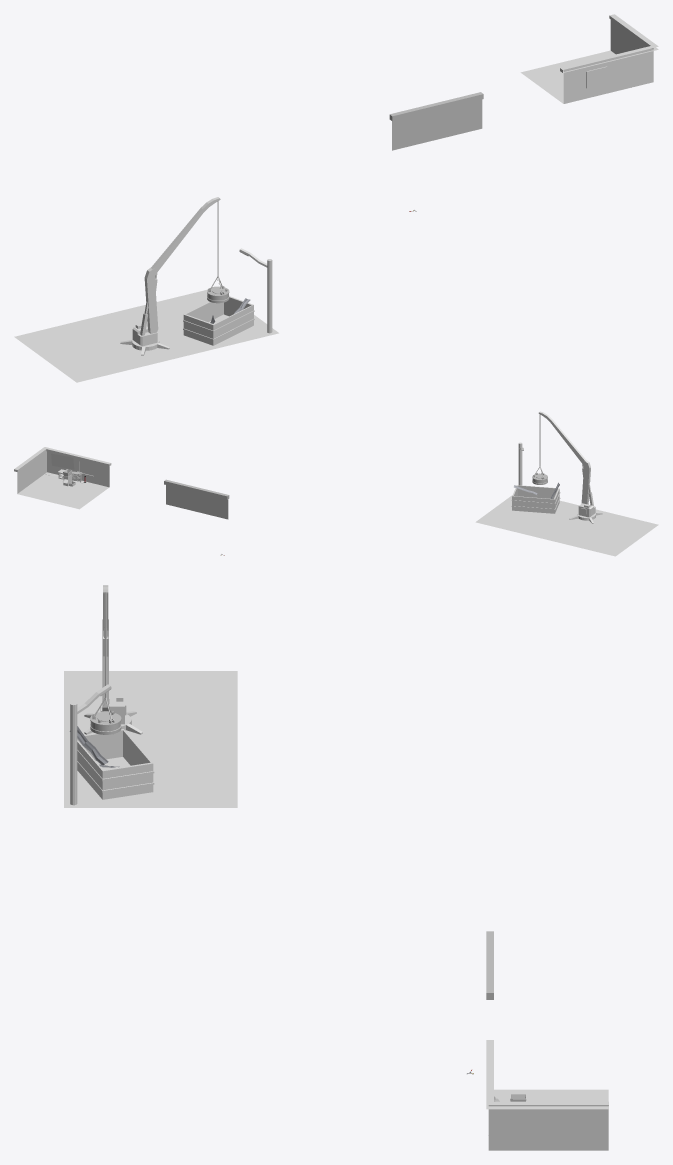
The model's file is basketboxcontainer.fbx.
The picture shows the model from 3 angles, top to bottom: view 1: azimuth 30°, elevation 25°; view 2: azimuth 150°, elevation 25°; view 3: azimuth 270°, elevation 25°; orthographic projection. The views are drawn at different scales.
Visible parts, largest first — view 1: Cube.004, Garage_walls_floor, Wall_smth, Cube.006, Cube.008, Cube.003, Cube.007; view 2: Cube.004, Garage_walls_floor, Wall_smth, Cube.006, Cube.008, Cube.003, Map; view 3: Cube.004, Garage_walls_floor, Cube.006, Cube.007.
Boxes of the visible parts, x1,y1,x2,y2 form: Cube.004: (14, 290, 278, 382); Garage_walls_floor: (520, 14, 658, 103); Wall_smth: (389, 92, 483, 150); Cube.006: (183, 296, 254, 345); Cube.008: (151, 197, 220, 274); Cube.003: (144, 268, 158, 333); Cube.007: (239, 248, 272, 333); Cube.004: (475, 495, 658, 556); Garage_walls_floor: (14, 447, 111, 509); Wall_smth: (164, 479, 229, 519); Cube.006: (511, 485, 560, 513); Cube.008: (538, 411, 586, 465); Cube.003: (581, 460, 590, 504); Map: (51, 453, 74, 469); Cube.004: (64, 671, 237, 807); Garage_walls_floor: (486, 1040, 608, 1150); Cube.006: (77, 729, 154, 799); Cube.007: (70, 684, 111, 805).
Bounding box in the file's own units: 6708 × 1656 × 3114.
